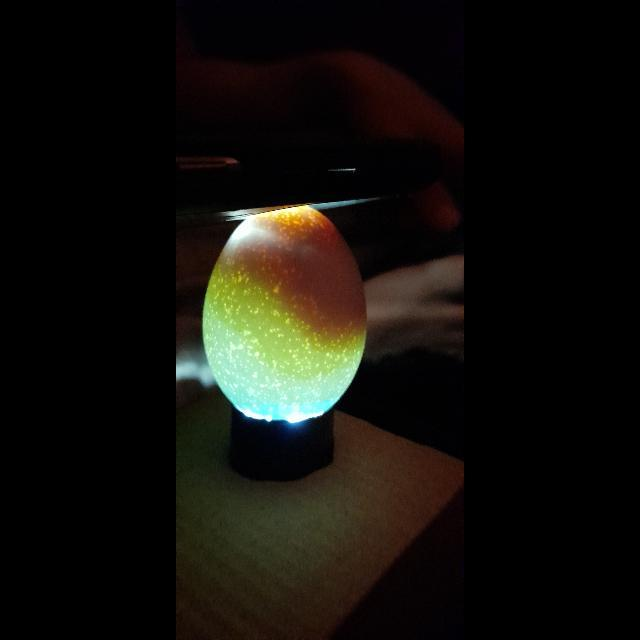Infertile: (200, 210, 368, 422)
